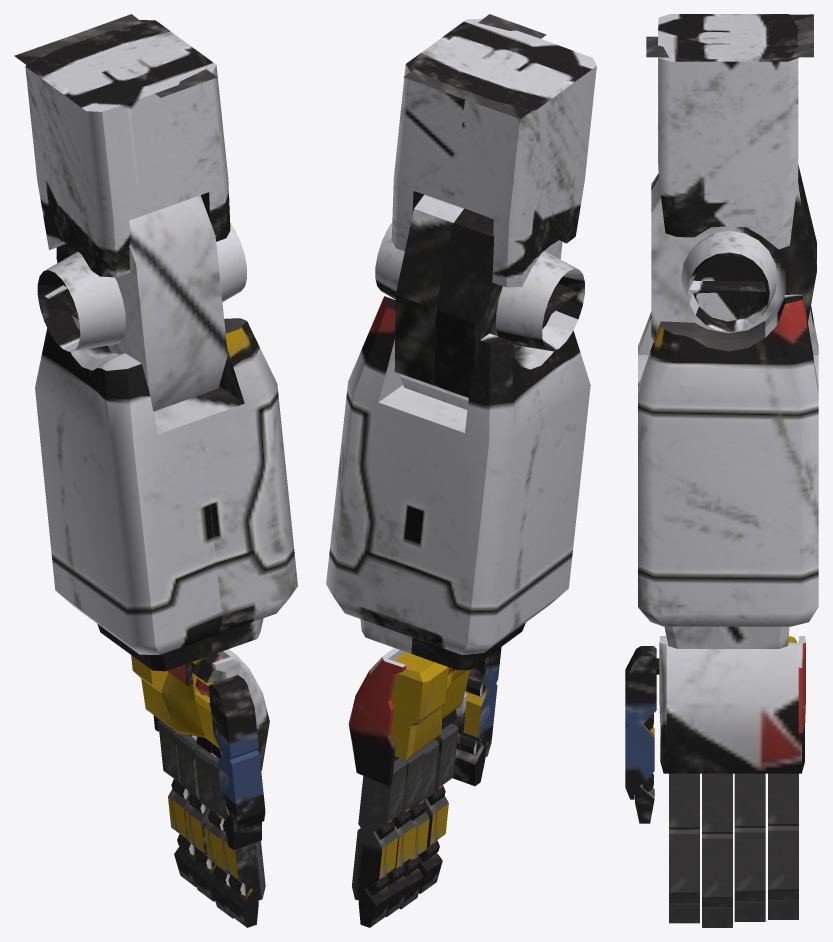
Rendered from left_hand.obj.
3 renders of one model, left to right at view 1: azimuth 30°, elevation 25°; view 2: azimuth 150°, elevation 25°; view 3: azimuth 270°, elevation 25°, orthographic. The views are drawn at different scales.
Parts seen in each view (by area): view 1: polySurface666; view 2: polySurface666; view 3: polySurface666.
Part boxes in pixels (box(x1,y1,x2,y2)): polySurface666: box(14, 14, 297, 927); polySurface666: box(326, 14, 596, 927); polySurface666: box(625, 14, 818, 927).
Size of the model in its own units: 2.33 by 9.49 by 1.96.
